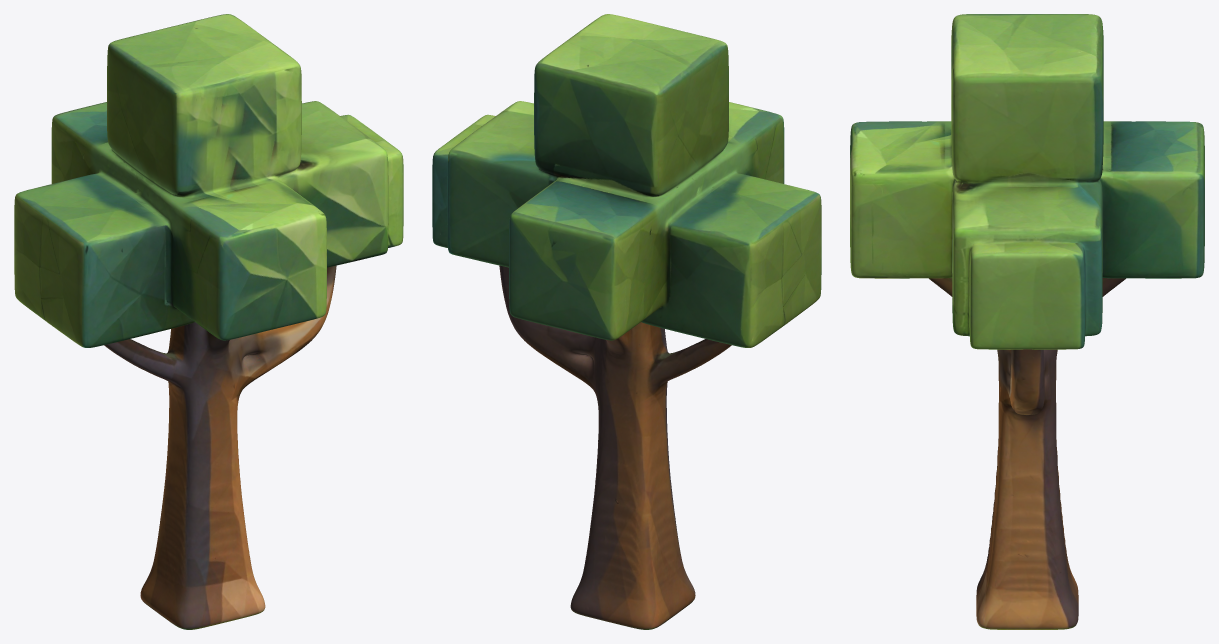
The model's file is tree.glb.
3 views of the same model, side by side, from view 1: azimuth 30°, elevation 25°; view 2: azimuth 150°, elevation 25°; view 3: azimuth 270°, elevation 25° (orthographic). The views are drawn at different scales.
Visible parts, largest first — view 1: Mesh_0.001; view 2: Mesh_0.001; view 3: Mesh_0.001.
Part boxes in pixels (x1,y1,x2,y2): Mesh_0.001: (14,14,403,629); Mesh_0.001: (432,14,821,629); Mesh_0.001: (850,14,1204,629).
Size of the model in its own units: 1.25 by 2 by 1.13.
1 material, 1 textured.
